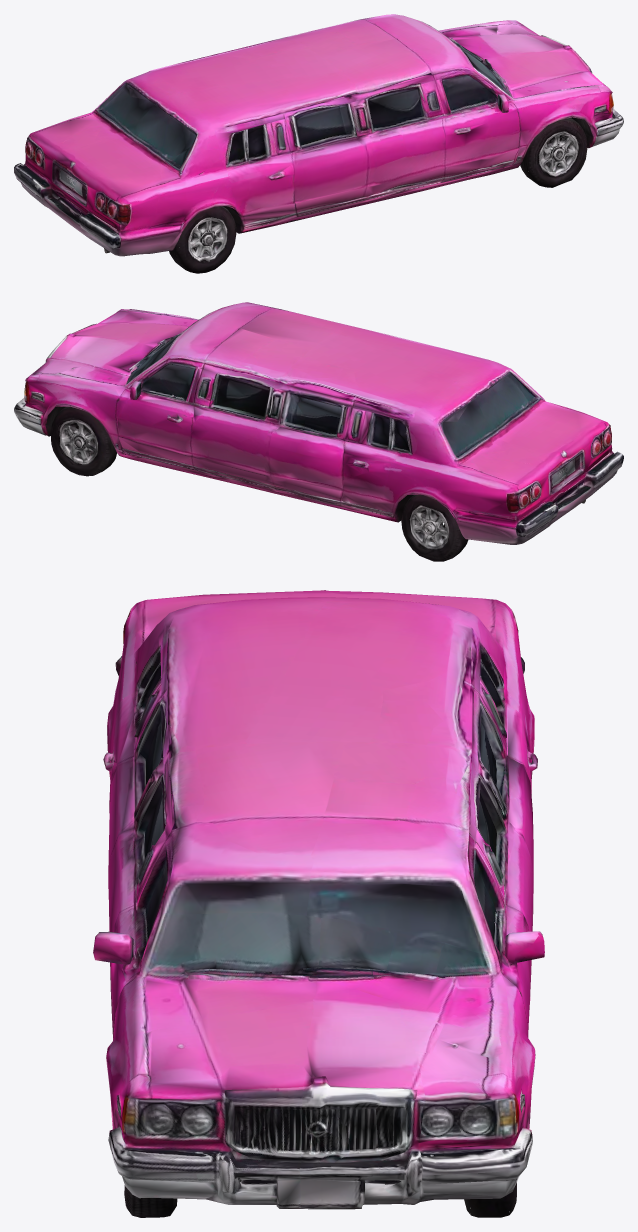
The model's file is limousine.glb.
3 renders of one model, top to bottom at view 1: azimuth 30°, elevation 25°; view 2: azimuth 150°, elevation 25°; view 3: azimuth 270°, elevation 25°, orthographic. The views are drawn at different scales.
Visible parts, largest first — view 1: tripo_node_d20cdab1-107e-494b-adaf-ef14d5cbd066, Roue_2_maillage, Roue_0_maillage; view 2: tripo_node_d20cdab1-107e-494b-adaf-ef14d5cbd066, Roue_3_maillage, Roue_1_maillage; view 3: tripo_node_d20cdab1-107e-494b-adaf-ef14d5cbd066.
Part boxes in pixels (<box>): tripo_node_d20cdab1-107e-494b-adaf-ef14d5cbd066: <box>14,14,623,272</box>; Roue_2_maillage: <box>525,123,587,187</box>; Roue_0_maillage: <box>177,209,236,273</box>; tripo_node_d20cdab1-107e-494b-adaf-ef14d5cbd066: <box>14,302,623,561</box>; Roue_3_maillage: <box>50,412,109,476</box>; Roue_1_maillage: <box>401,495,460,561</box>; tripo_node_d20cdab1-107e-494b-adaf-ef14d5cbd066: <box>93,590,544,1217</box>.
Size of the model in its own units: 3.4 by 0.8833 by 1.28.
1 material, 1 textured.
